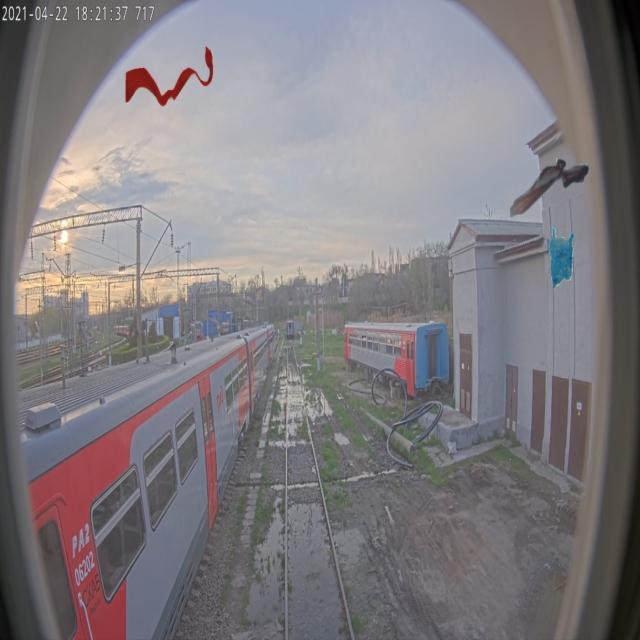floating object: (124, 44, 214, 108), (508, 157, 589, 220)
plastic bag: (549, 225, 575, 289)
